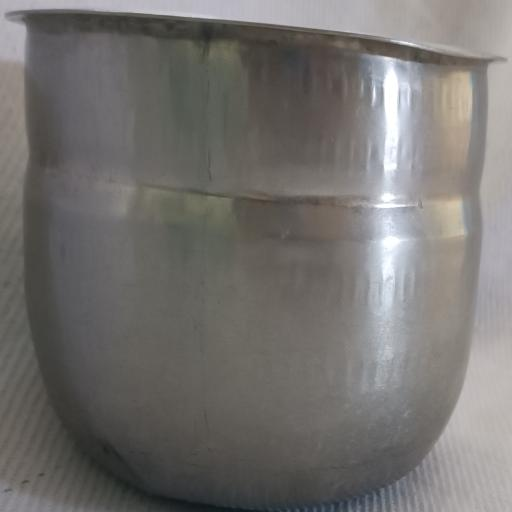vessel: (10, 10, 495, 508)
